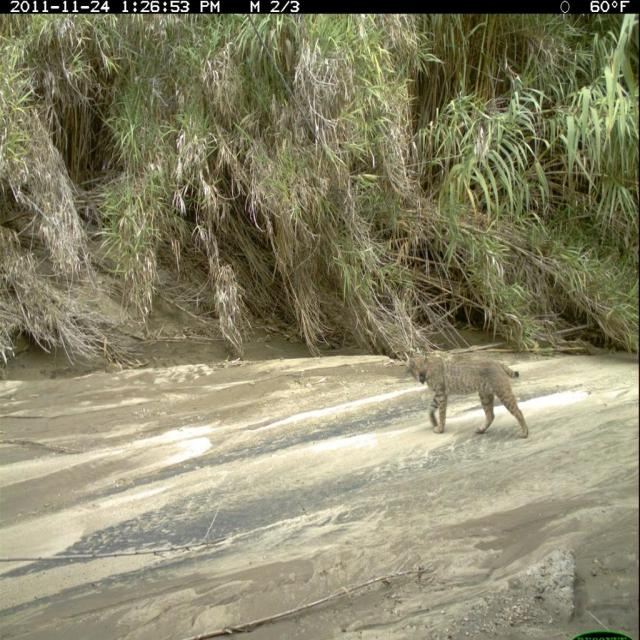bobcat: (398, 343, 533, 442)
